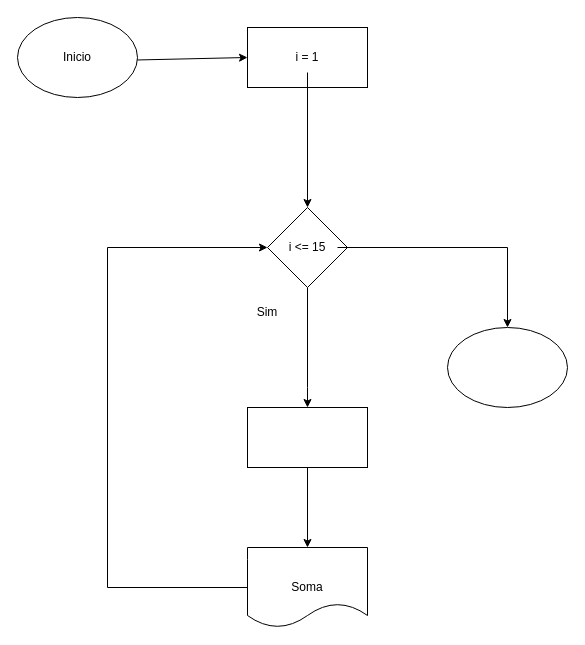
Some shapes in this 585 by 645 pixel diagram are drawn without their labels. The centre of each missing label's shape, as x and y in pixels:
"Fim" goes at point 507,367.
"soma = soma + i" goes at point 307,437.
